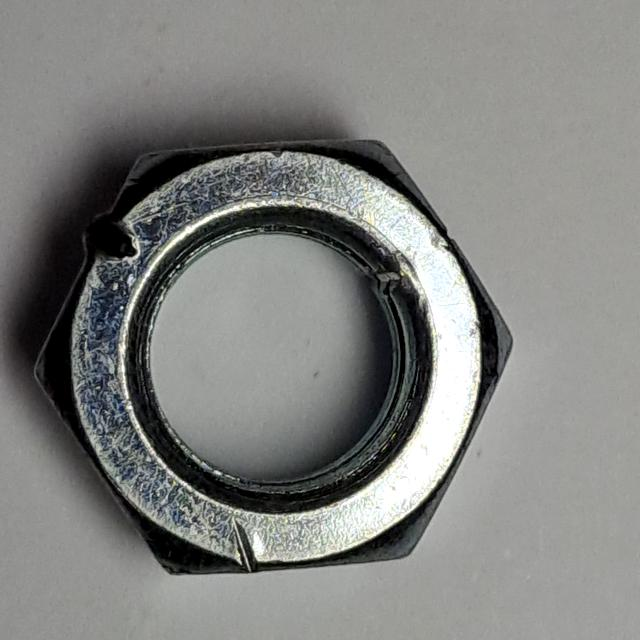Scratches: (27, 124, 530, 592)
